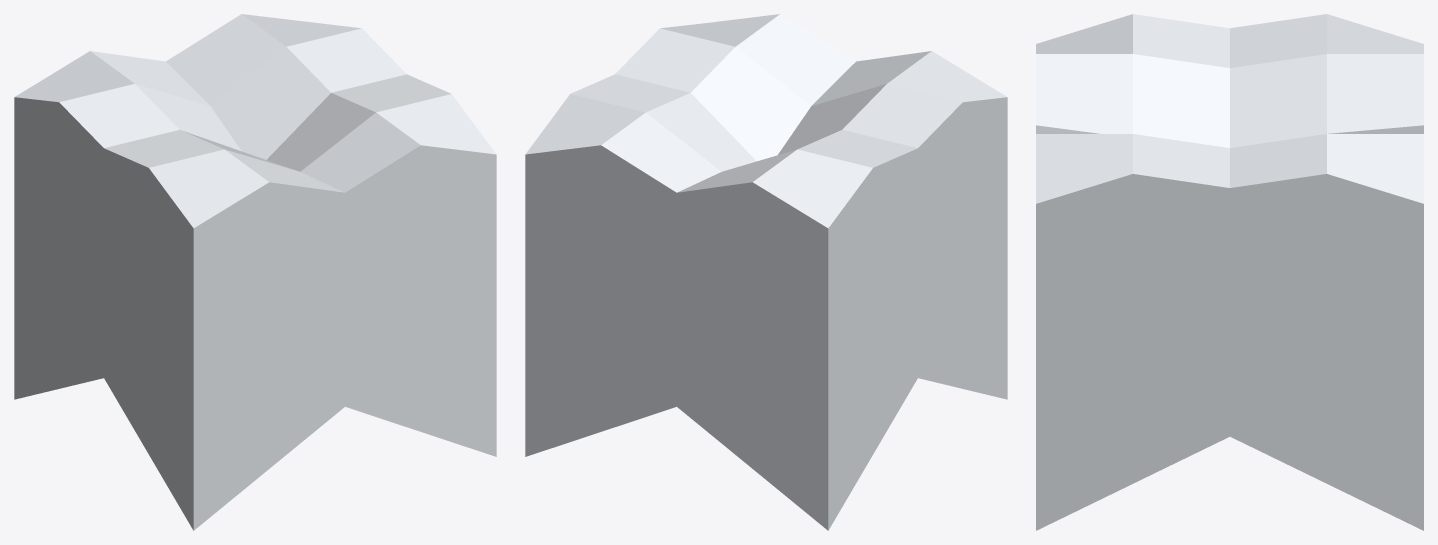
Rendered from fgr_fur_muela.fbx.
3 views of the same model, side by side, from view 1: azimuth 30°, elevation 25°; view 2: azimuth 150°, elevation 25°; view 3: azimuth 270°, elevation 25° (orthographic). The views are drawn at different scales.
Visible parts, largest first — view 1: fgr_fur_muela; view 2: fgr_fur_muela; view 3: fgr_fur_muela.
Boxes of the visible parts, bbox=[...] form: fgr_fur_muela: bbox=[14, 14, 496, 530]; fgr_fur_muela: bbox=[525, 14, 1007, 530]; fgr_fur_muela: bbox=[1036, 14, 1423, 530].
Bounding box in the file's own units: 500 × 521 × 512.
Materials: 1 (1 with a texture image).
